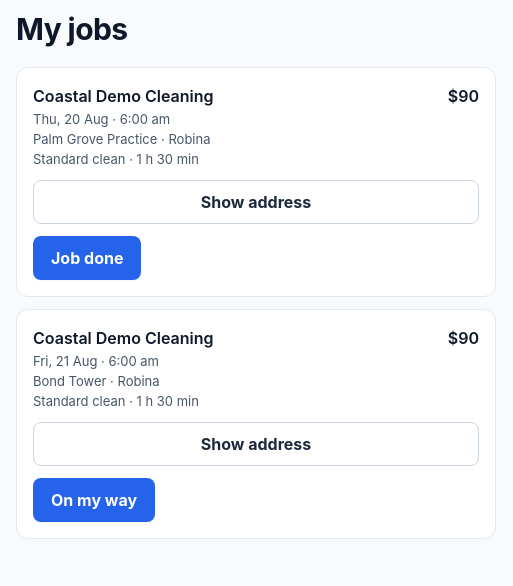
CLE-24 finishing a job › drops the job off the list once it is done
What coordinates should you click on to do the following:
click the button "Job done"
I would click on:
 (87, 258)
Its box is left=33, top=236, right=141, bottom=280.
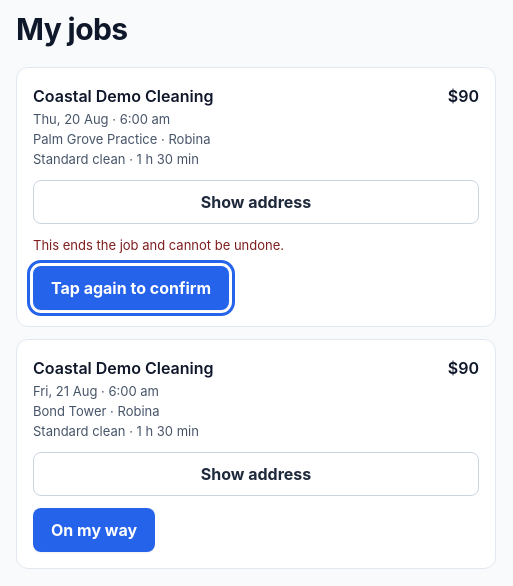
What coordinates should you click on to do the following:
click the button "Tap again to confirm"
I would click on:
 (131, 288)
Its box is left=33, top=266, right=229, bottom=310.
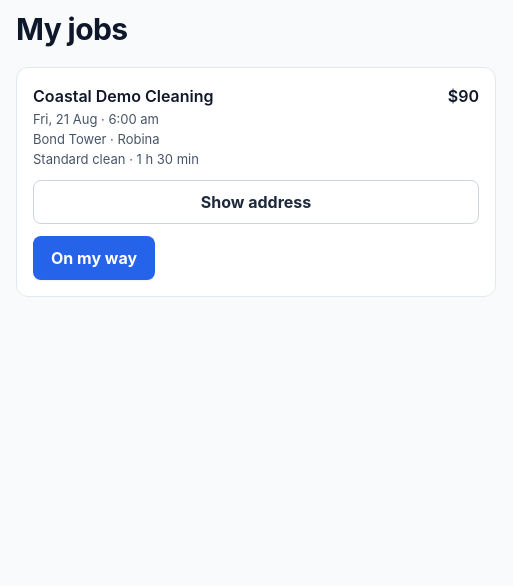
Expected: the text "Bond Tower · Robina" is shown, left=33, top=131, right=160, bottom=147
Result: the text "Palm Grove Practice · " is gone
